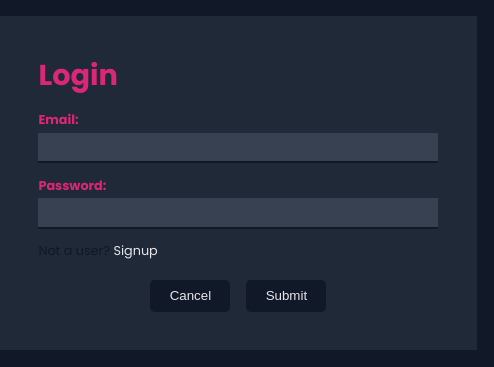
Test: LoginForm › should show password on double click
The image size is (494, 367).
Type "Password7@" into the password field labelled "Password:".
click(238, 214); type("Password7@")  # box left=38, top=198, right=438, bottom=229
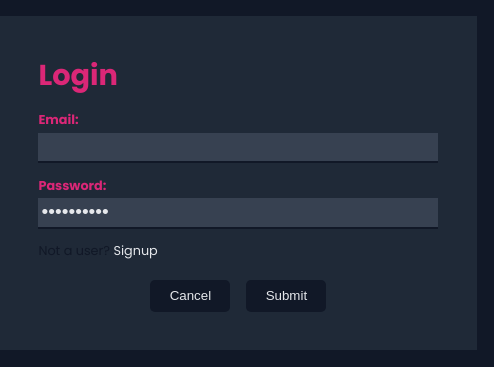
Double-click the password field labelled "Password:".
double_click(238, 214)  # box left=38, top=198, right=438, bottom=229
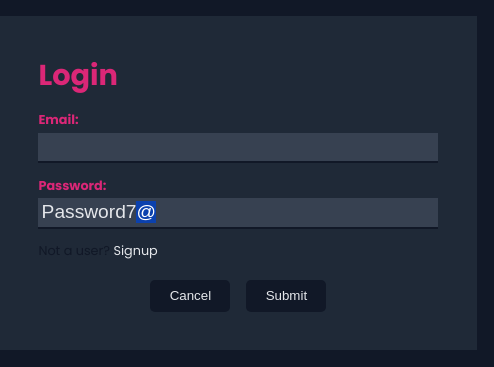
Expected: the field labelled "Password:" shows its text, left=38, top=198, right=438, bottom=229
